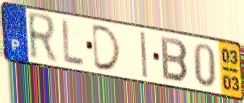0: (191, 42, 218, 89)
B: (159, 34, 190, 84)
D: (91, 23, 123, 73)
I: (139, 30, 149, 81)
L: (61, 18, 85, 69)
R: (26, 10, 59, 66)
